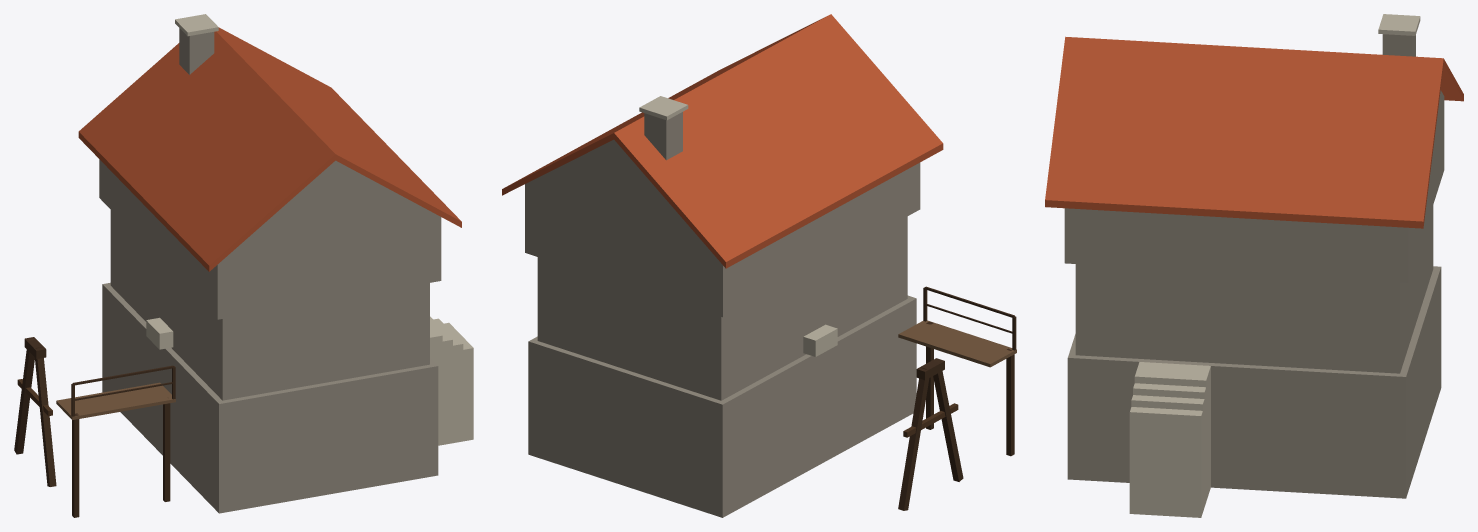
File: SM_Millbrook_Mill.fbx
3 renders of one model, left to right at view 1: azimuth 30°, elevation 25°; view 2: azimuth 150°, elevation 25°; view 3: azimuth 270°, elevation 25°, orthographic. The views are drawn at different scales.
Visible parts, largest first — view 1: SM_Millbrook_Mill; view 2: SM_Millbrook_Mill; view 3: SM_Millbrook_Mill.
Boxes of the visible parts, x1,y1,x2,y2 form: SM_Millbrook_Mill: [14, 14, 473, 517]; SM_Millbrook_Mill: [502, 14, 1016, 517]; SM_Millbrook_Mill: [1045, 14, 1463, 517].
Size of the model in its own units: 13.05 by 11.51 by 10.75.
